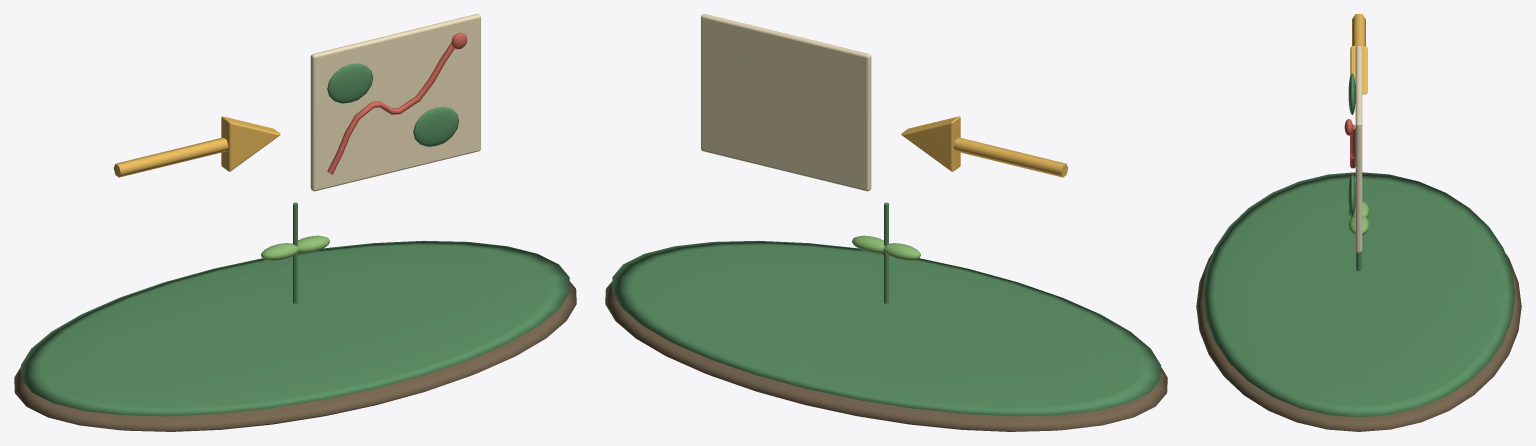
Rendered from complete-second-sent-unfolding.glb.
The picture shows the model from 3 angles, left to right: view 1: azimuth 30°, elevation 25°; view 2: azimuth 150°, elevation 25°; view 3: azimuth 270°, elevation 25°; orthographic projection. The views are drawn at different scales.
Parts seen in each view (by area): view 1: complete-second-sent-unfolding_surface_01, complete-second-sent-unfolding_surface_03, complete-second-sent-unfolding_surface_00, complete-second-sent-unfolding_surface_02, complete-second-sent-unfolding_surface_04, complete-second-sent-unfolding_surface_05; view 2: complete-second-sent-unfolding_surface_01, complete-second-sent-unfolding_surface_03, complete-second-sent-unfolding_surface_00, complete-second-sent-unfolding_surface_02, complete-second-sent-unfolding_surface_05; view 3: complete-second-sent-unfolding_surface_01, complete-second-sent-unfolding_surface_00, complete-second-sent-unfolding_surface_03, complete-second-sent-unfolding_surface_02, complete-second-sent-unfolding_surface_05, complete-second-sent-unfolding_surface_04.
Part boxes in pixels (left/top/right/bottom): complete-second-sent-unfolding_surface_01: left=21, top=63, right=569, bottom=416; complete-second-sent-unfolding_surface_03: left=310, top=14, right=480, bottom=191; complete-second-sent-unfolding_surface_00: left=14, top=281, right=576, bottom=431; complete-second-sent-unfolding_surface_02: left=113, top=116, right=280, bottom=177; complete-second-sent-unfolding_surface_04: left=327, top=32, right=467, bottom=174; complete-second-sent-unfolding_surface_05: left=261, top=235, right=329, bottom=260; complete-second-sent-unfolding_surface_01: left=612, top=202, right=1160, bottom=416; complete-second-sent-unfolding_surface_03: left=701, top=14, right=871, bottom=191; complete-second-sent-unfolding_surface_00: left=605, top=281, right=1167, bottom=431; complete-second-sent-unfolding_surface_02: left=901, top=116, right=1068, bottom=177; complete-second-sent-unfolding_surface_05: left=852, top=235, right=920, bottom=260; complete-second-sent-unfolding_surface_01: left=1202, top=73, right=1515, bottom=417; complete-second-sent-unfolding_surface_00: left=1196, top=253, right=1521, bottom=431; complete-second-sent-unfolding_surface_03: left=1355, top=45, right=1362, bottom=252; complete-second-sent-unfolding_surface_02: left=1350, top=14, right=1367, bottom=94; complete-second-sent-unfolding_surface_05: left=1348, top=201, right=1369, bottom=234; complete-second-sent-unfolding_surface_04: left=1344, top=119, right=1355, bottom=168.
Size of the model in its own units: 4.56 by 2.41 by 2.5.
